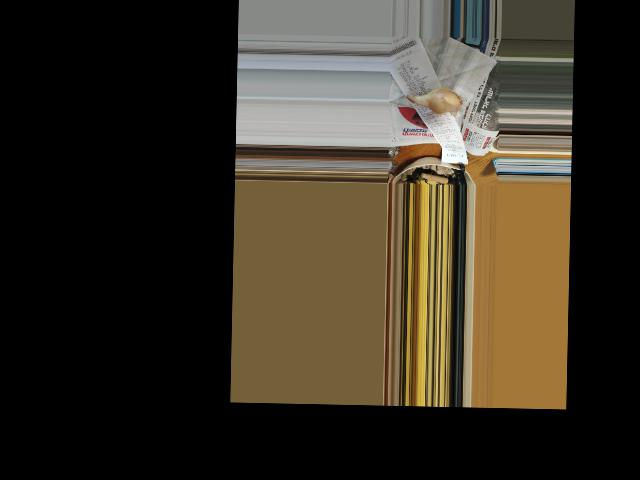onion: (419, 88, 461, 112)
